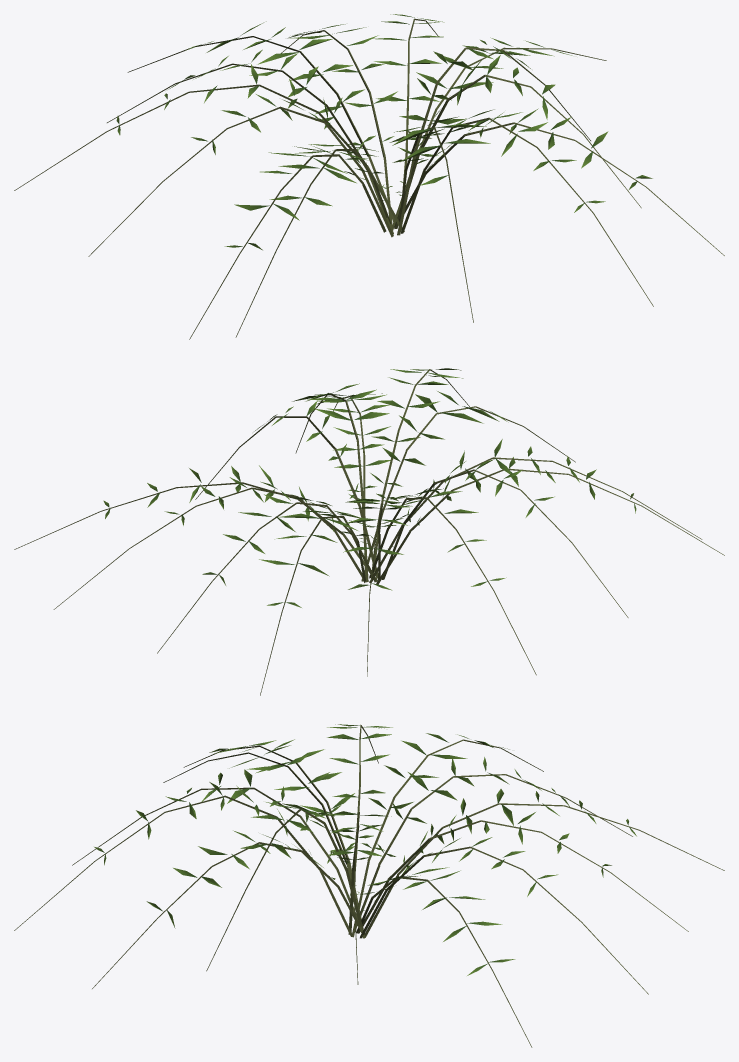
File: forest_fern_002_a_LOD3.gltf
The picture shows the model from 3 angles, top to bottom: view 1: azimuth 30°, elevation 25°; view 2: azimuth 150°, elevation 25°; view 3: azimuth 270°, elevation 25°; orthographic projection. The views are drawn at different scales.
Parts seen in each view (by area): view 1: forest_fern_002_a_LOD3; view 2: forest_fern_002_a_LOD3; view 3: forest_fern_002_a_LOD3.
Part boxes in pixels (x1=…): forest_fern_002_a_LOD3: x1=14, y1=14, x2=724, y2=339; forest_fern_002_a_LOD3: x1=14, y1=368, x2=724, y2=695; forest_fern_002_a_LOD3: x1=14, y1=724, x2=724, y2=1047.
Bounding box in the file's own units: 4 × 1.06 × 4.36.
1 material, 1 textured.
